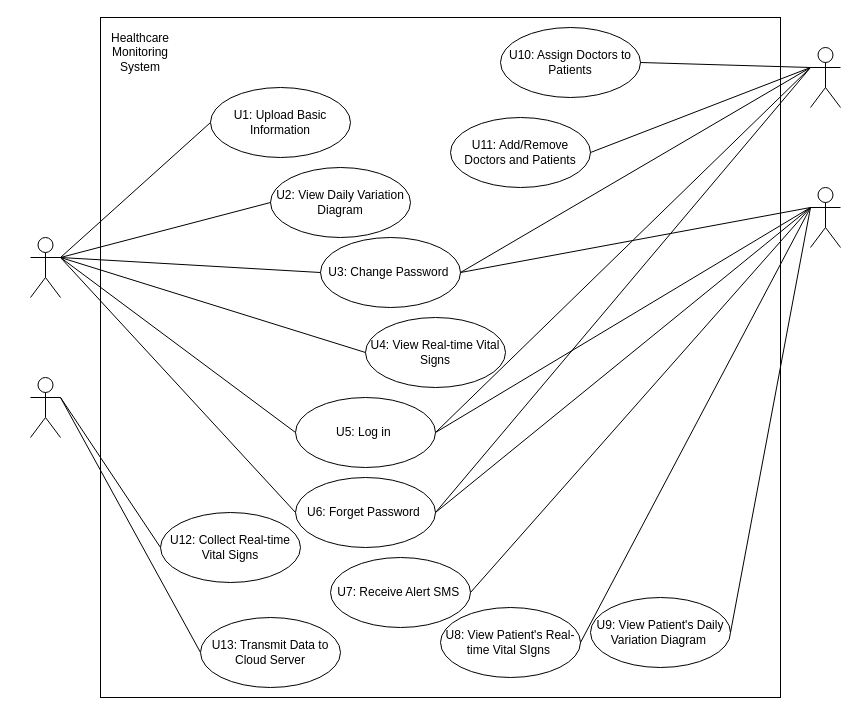
Some shapes in this 860 by 715 pixel diagram are drawn without their labels. The shapes that lost their labels are listed below. From the top down, each one's centre as x and y in pixels, then its label:
the point at 825,77: Admin
the point at 825,217: Doctor
the point at 45,267: Patient
the point at 45,407: IoT Device
